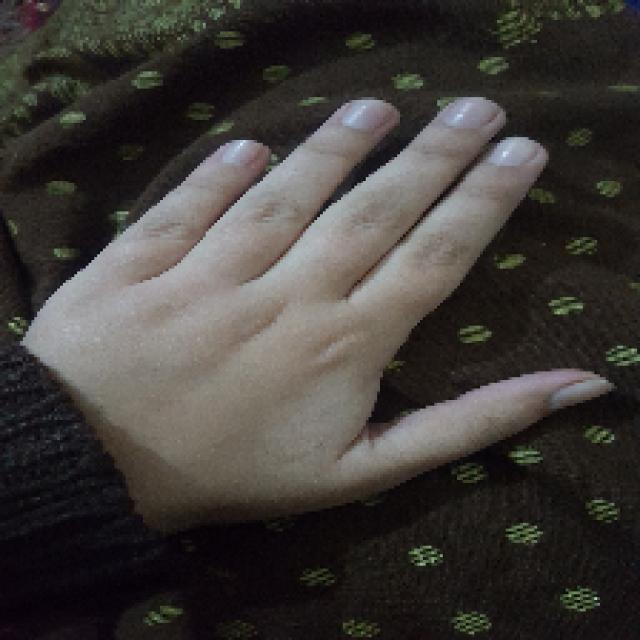Nail: (550, 376, 616, 410), (442, 98, 498, 129), (341, 99, 392, 131), (487, 138, 539, 166), (221, 140, 264, 167)
